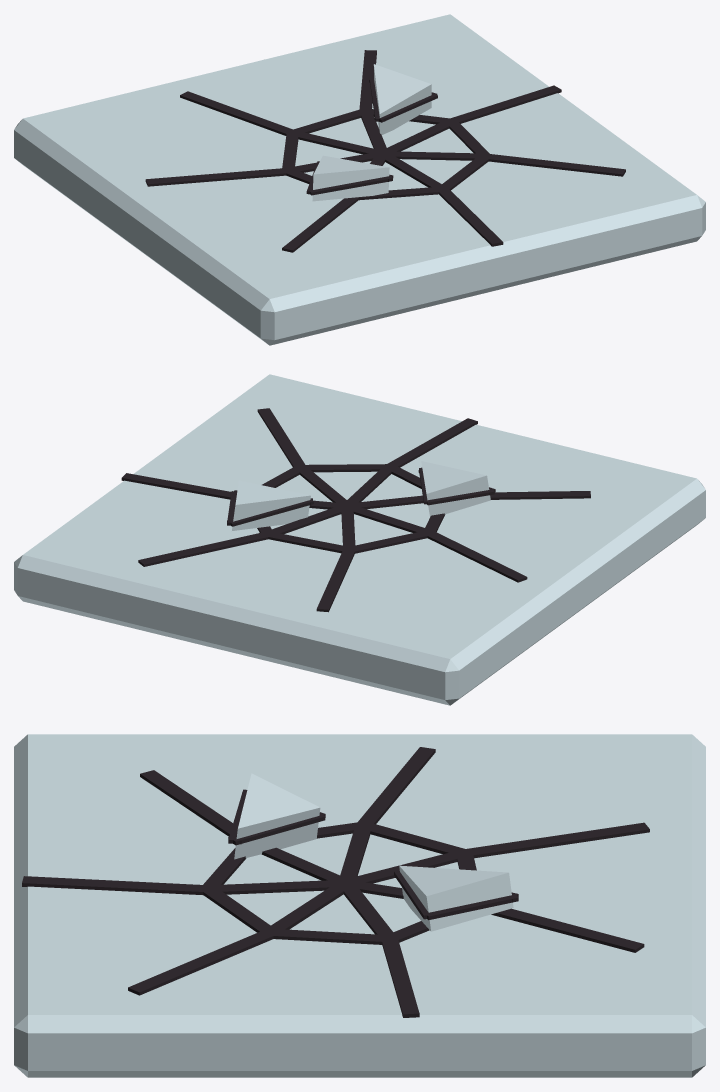
File: sb_cracked_ice_2.glb
The picture shows the model from 3 angles, top to bottom: view 1: azimuth 30°, elevation 25°; view 2: azimuth 150°, elevation 25°; view 3: azimuth 270°, elevation 25°; orthographic projection. The views are drawn at different scales.
Visible parts, largest first — view 1: cracked_ice_2; view 2: cracked_ice_2; view 3: cracked_ice_2.
Boxes of the visible parts, <box> form: cracked_ice_2: <box>14,14,705,345</box>; cracked_ice_2: <box>14,374,705,705</box>; cracked_ice_2: <box>14,734,705,1077</box>.
Size of the model in its own units: 1 by 0.1758 by 1.
